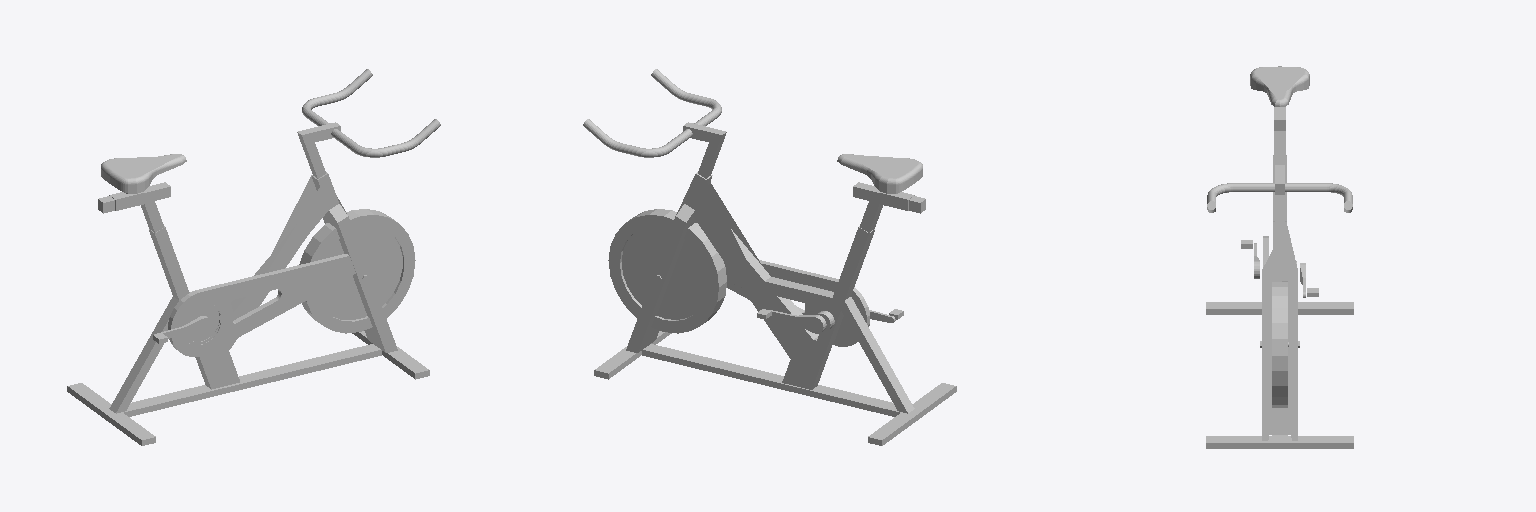
The model's file is Exercise Bike.obj.
The picture shows the model from 3 angles: view 1: azimuth 30°, elevation 25°; view 2: azimuth 150°, elevation 25°; view 3: azimuth 270°, elevation 25°; orthographic projection.
Parts seen in each view (by area): view 1: Mesh2 Model, Mesh1 Group1 Model, Mesh10 Model, Mesh13 Model, Mesh11 Model, Mesh5 Model; view 2: Mesh2 Model, Mesh1 Group1 Model, Mesh10 Model, Mesh13 Model, Mesh11 Model, Mesh8 Model; view 3: Mesh2 Model, Mesh1 Group1 Model, Mesh13 Model, Mesh11 Model.
Boxes of the visible parts, <box> form: Mesh2 Model: <box>67,122,429,445</box>; Mesh1 Group1 Model: <box>299,209,415,333</box>; Mesh10 Model: <box>168,254,355,356</box>; Mesh13 Model: <box>101,154,186,193</box>; Mesh11 Model: <box>302,69,440,157</box>; Mesh5 Model: <box>154,316,212,338</box>; Mesh2 Model: <box>594,122,956,445</box>; Mesh1 Group1 Model: <box>608,209,726,333</box>; Mesh10 Model: <box>724,260,869,346</box>; Mesh13 Model: <box>837,154,922,193</box>; Mesh11 Model: <box>583,69,721,157</box>; Mesh8 Model: <box>770,310,826,333</box>; Mesh2 Model: <box>1206,107,1353,448</box>; Mesh1 Group1 Model: <box>1272,281,1287,407</box>; Mesh13 Model: <box>1250,66,1309,106</box>; Mesh11 Model: <box>1207,183,1352,212</box>.
Size of the model in its own units: 43.16 by 33.48 by 17.87.